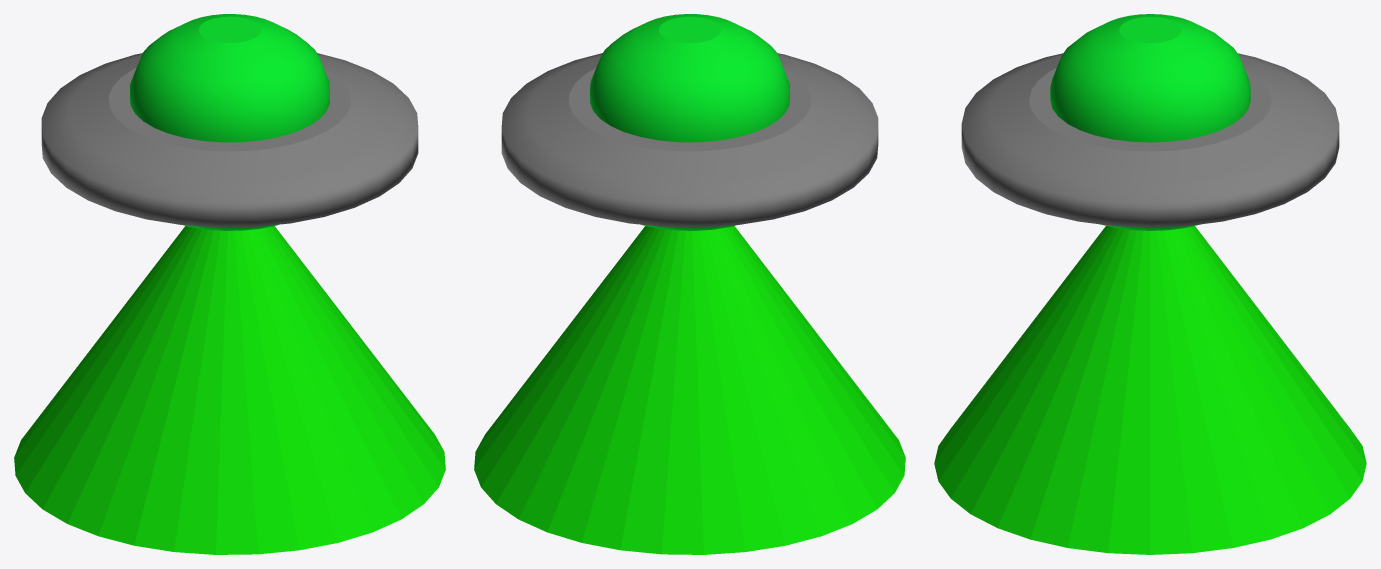
Rendered from UFOblend.fbx.
3 renders of one model, left to right at view 1: azimuth 30°, elevation 25°; view 2: azimuth 150°, elevation 25°; view 3: azimuth 270°, elevation 25°, orthographic.
Visible parts, largest first — view 1: Cone, Cylinder; view 2: Cone, Cylinder; view 3: Cone, Cylinder.
Boxes of the visible parts, x1,y1,x2,y2 form: Cone: (14,226,445,554); Cylinder: (41,14,418,230); Cone: (474,226,905,554); Cylinder: (501,14,878,230); Cone: (934,226,1366,554); Cylinder: (961,14,1339,230).
Size of the model in its own units: 1410 by 1560 by 1410.
